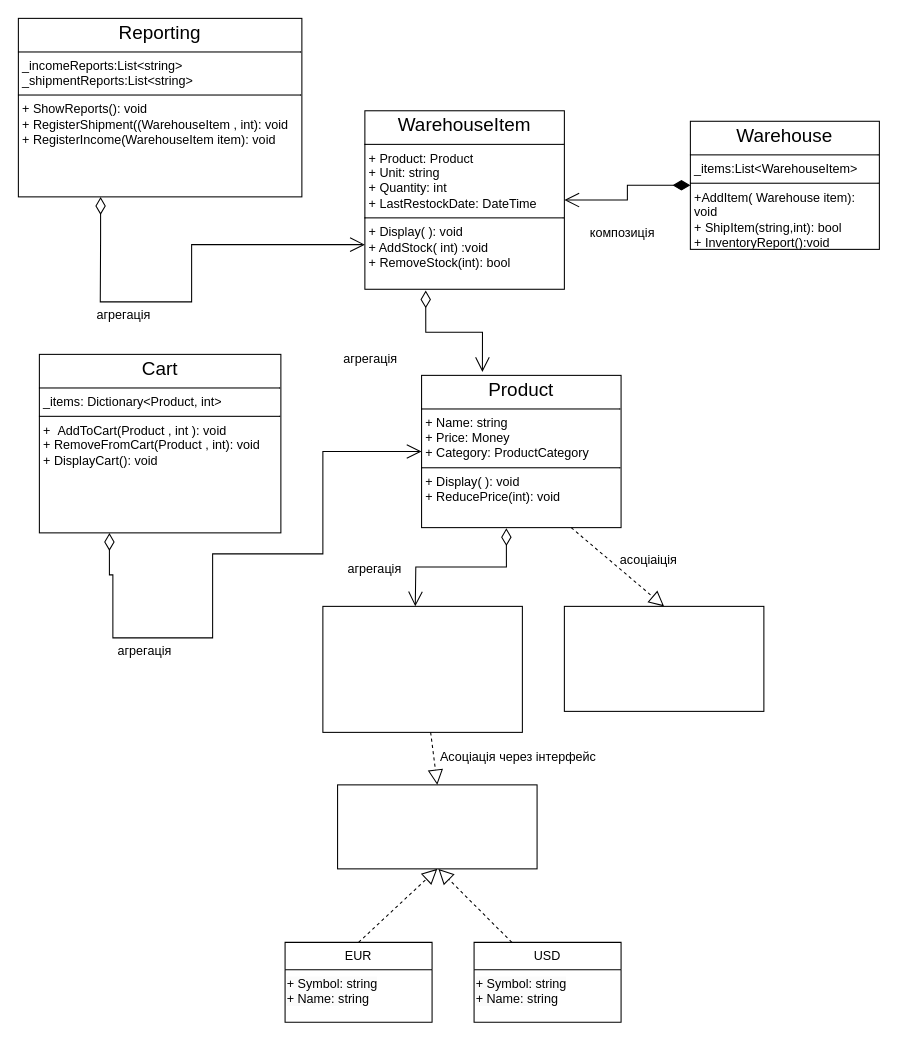
Some shapes in this 898 by 1041 pixel diagram are drawn without their labels. Each missing label, with the centre of its shape:
<< Enum>> ProductCategory + Sports + Electronics + Clothing: point 663,658
<<Interface>> ICurrency + Symbol: string + Name: string: point 437,826
Money + WholePart: int + Cents: int + Currency: ICurrency + Display( ): void: point 422,668
